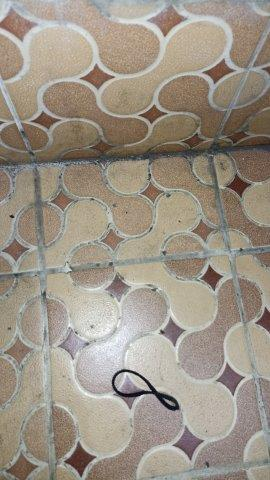karet: (111, 369, 179, 411)
